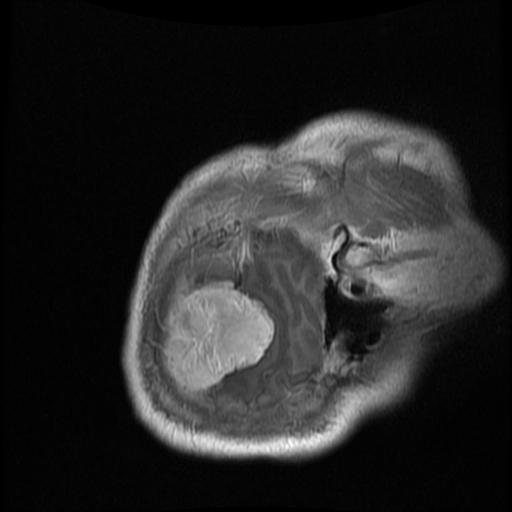meningioma: (160, 274, 274, 396)
